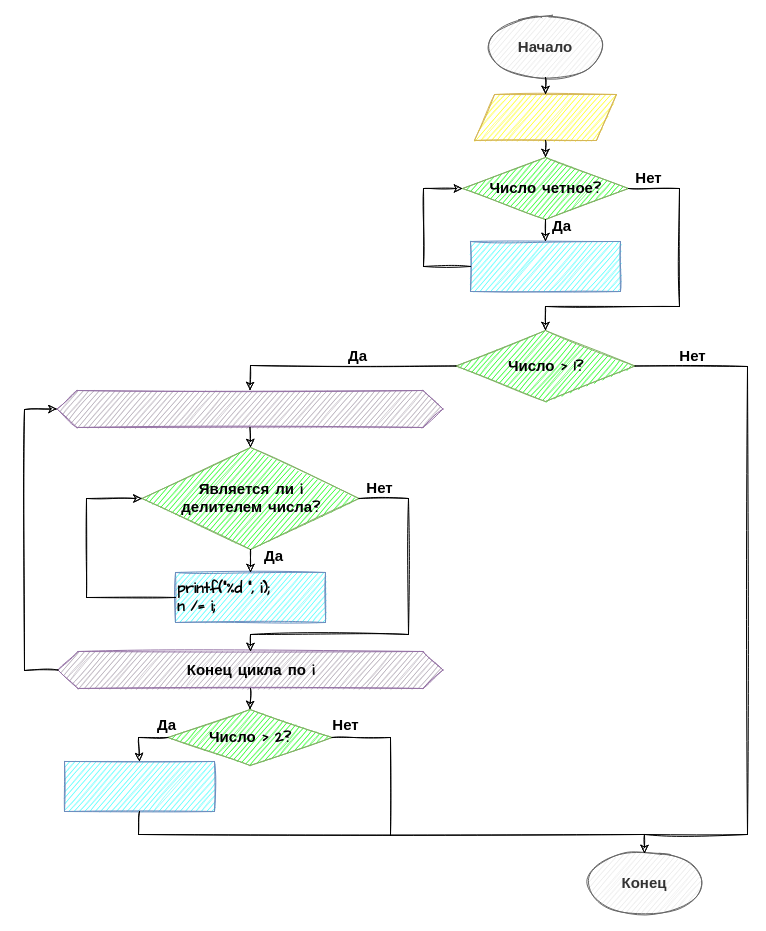
The diagram is 766 pixels wide and 931 high, and some of its shapes have lost their labels. The shapes that lost their labels are listed below. From the top down, each one's centre as x and y in pixels, then its label:
(545,117): Ввод числа n
(545,266): printf("%d ", 2); n = n / 2;
(249,409): Начало цикла по i от 3 до sqrt(n) с шагом 2
(139,786): printf("%d ", n);
